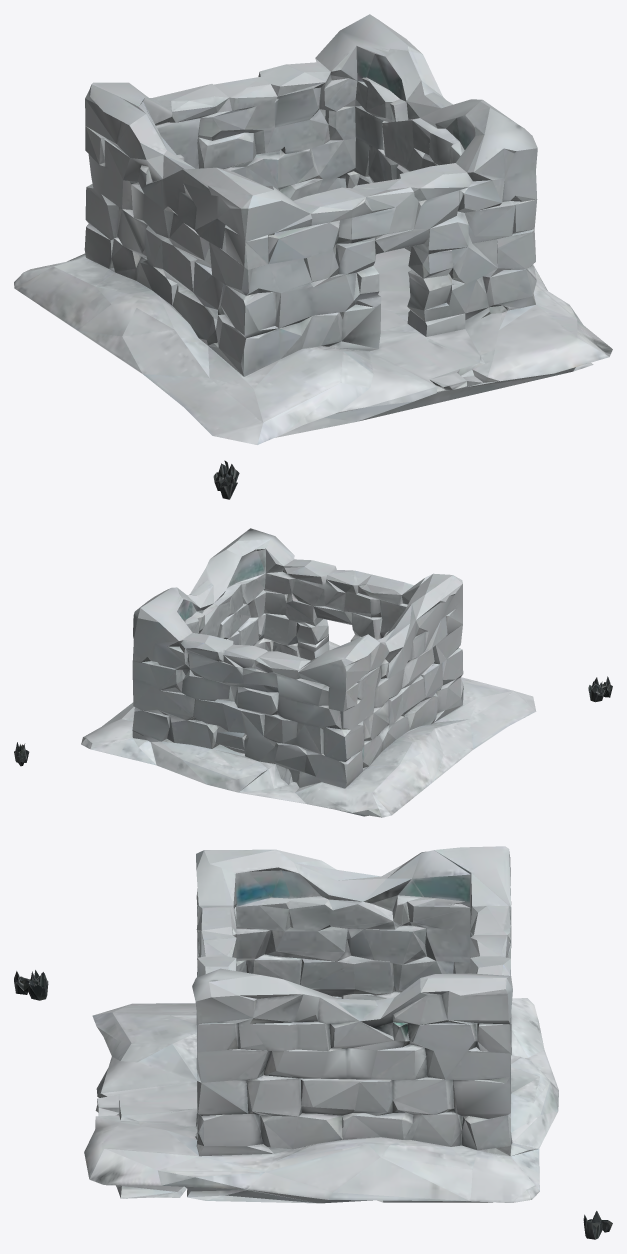
Rendered from wall_snow.glb.
3 views of the same model, one above another, from view 1: azimuth 30°, elevation 25°; view 2: azimuth 150°, elevation 25°; view 3: azimuth 270°, elevation 25° (orthographic). The views are drawn at different scales.
Bounding box in the file's own units: 1.78 × 0.6946 × 1.81.
1 material, 1 textured.
